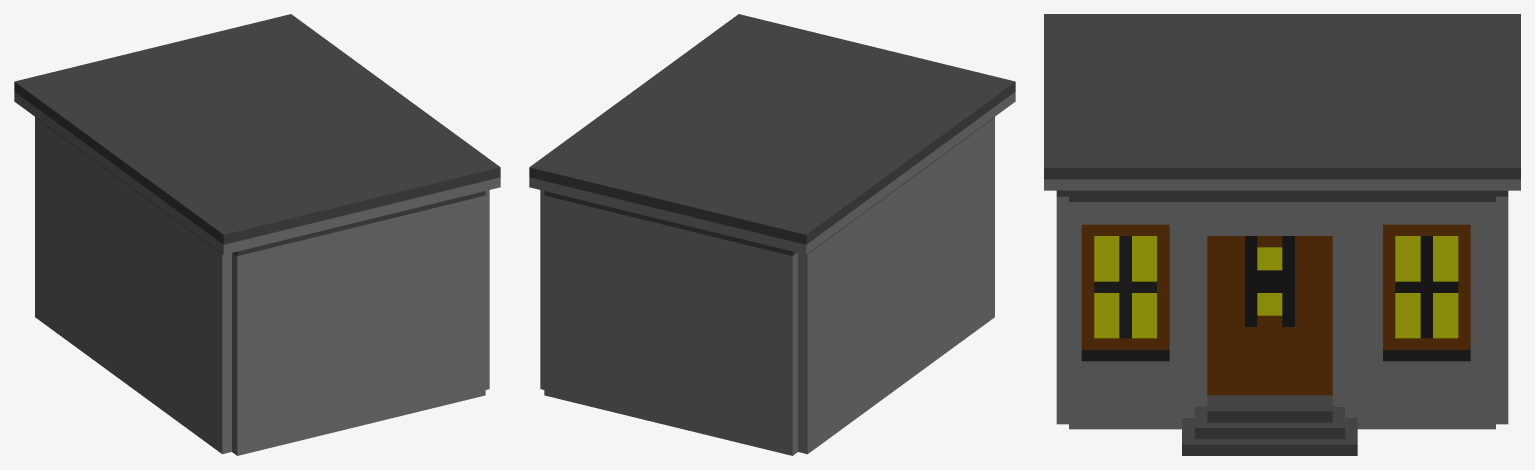
Rendered from building 2.obj.
The picture shows the model from 3 angles, left to right: view 1: azimuth 30°, elevation 25°; view 2: azimuth 150°, elevation 25°; view 3: azimuth 270°, elevation 25°; orthographic projection. The views are drawn at different scales.
Size of the model in its own units: 3.4 by 2.3 by 3.8.
Materials: 1 (1 with a texture image).
